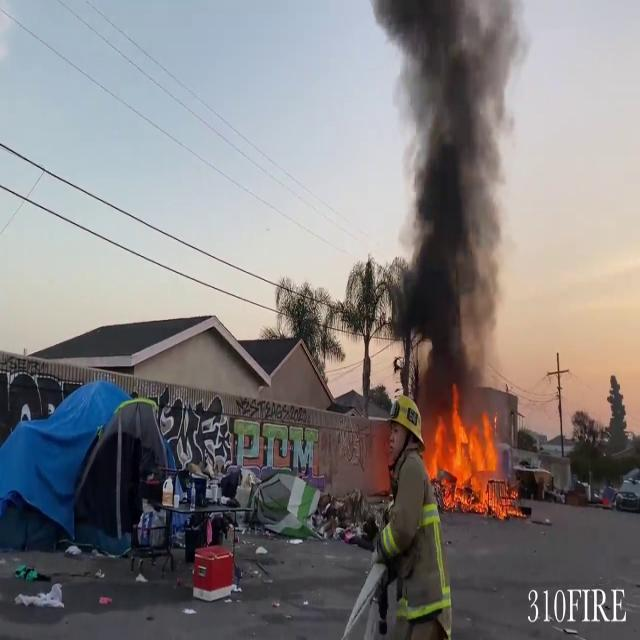Fire: (428, 390, 511, 515)
Smoke: (382, 0, 524, 383)
